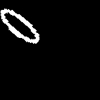chain: (1, 9, 38, 42)
